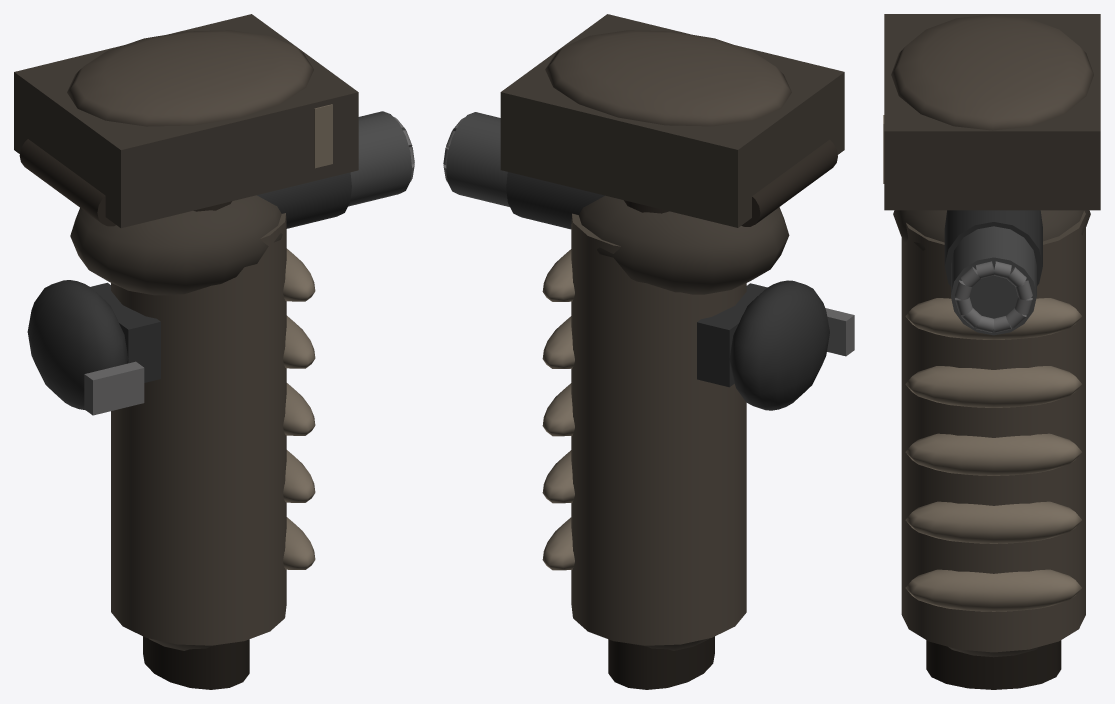
The model's file is CMU3DHandCMWelderCloud.glb.
3 renders of one model, left to right at view 1: azimuth 30°, elevation 25°; view 2: azimuth 150°, elevation 25°; view 3: azimuth 270°, elevation 25°, orthographic.
Parts seen in each view (by area): view 1: rounded bronze fuel-grip body, top closed pivot cap, cap rounded top, upper shoulder, front ignition lever housing, barrel nozzle, rounded lower foot, horizontal nozzle neck, cap hinge axle, ignition lever mounting root, front ignition lever, finger scallop ridge 5 (+5 smaller); view 2: rounded bronze fuel-grip body, top closed pivot cap, cap rounded top, upper shoulder, front ignition lever housing, barrel nozzle, rounded lower foot, horizontal nozzle neck, ignition lever mounting root, cap hinge axle, finger scallop ridge 1, finger scallop ridge 2 (+4 smaller); view 3: rounded bronze fuel-grip body, top closed pivot cap, cap rounded top, finger scallop ridge 1, finger scallop ridge 2, finger scallop ridge 3, finger scallop ridge 4, barrel nozzle, rounded lower foot, finger scallop ridge 5, horizontal nozzle neck, upper shoulder (+1 smaller).
Boxes of the visible parts, <box> form: rounded bronze fuel-grip body: <box>111,213,286,645</box>; top closed pivot cap: <box>14,14,358,228</box>; cap rounded top: <box>67,30,313,126</box>; upper shoulder: <box>70,195,286,295</box>; front ignition lever housing: <box>27,280,128,410</box>; barrel nozzle: <box>348,111,411,206</box>; rounded lower foot: <box>143,636,249,689</box>; horizontal nozzle neck: <box>257,172,351,228</box>; cap hinge axle: <box>19,139,115,226</box>; ignition lever mounting root: <box>90,282,160,382</box>; front ignition lever: <box>84,361,144,415</box>; finger scallop ridge 5: <box>283,248,315,301</box>; rounded bronze fuel-grip body: <box>571,213,746,645</box>; top closed pivot cap: <box>500,14,844,227</box>; cap rounded top: <box>545,30,791,126</box>; upper shoulder: <box>578,195,789,294</box>; front ignition lever housing: <box>729,280,829,410</box>; barrel nozzle: <box>446,112,509,206</box>; rounded lower foot: <box>608,636,714,689</box>; horizontal nozzle neck: <box>506,172,604,229</box>; ignition lever mounting root: <box>697,283,767,387</box>; cap hinge axle: <box>741,139,837,226</box>; finger scallop ridge 1: <box>542,517,574,570</box>; finger scallop ridge 2: <box>542,450,574,503</box>; rounded bronze fuel-grip body: <box>901,211,1085,652</box>; top closed pivot cap: <box>884,14,1100,210</box>; cap rounded top: <box>891,14,1093,130</box>; finger scallop ridge 1: <box>905,569,1081,611</box>; finger scallop ridge 2: <box>905,501,1081,543</box>; finger scallop ridge 3: <box>905,433,1081,475</box>; finger scallop ridge 4: <box>905,366,1081,407</box>; barrel nozzle: <box>951,226,1036,335</box>; rounded lower foot: <box>926,640,1061,689</box>; finger scallop ridge 5: <box>905,298,1081,339</box>; horizontal nozzle neck: <box>944,210,1042,286</box>; upper shoulder: <box>893,210,1090,250</box>.
Bounding box in the file's own units: 0.337 × 0.552 × 0.177.
